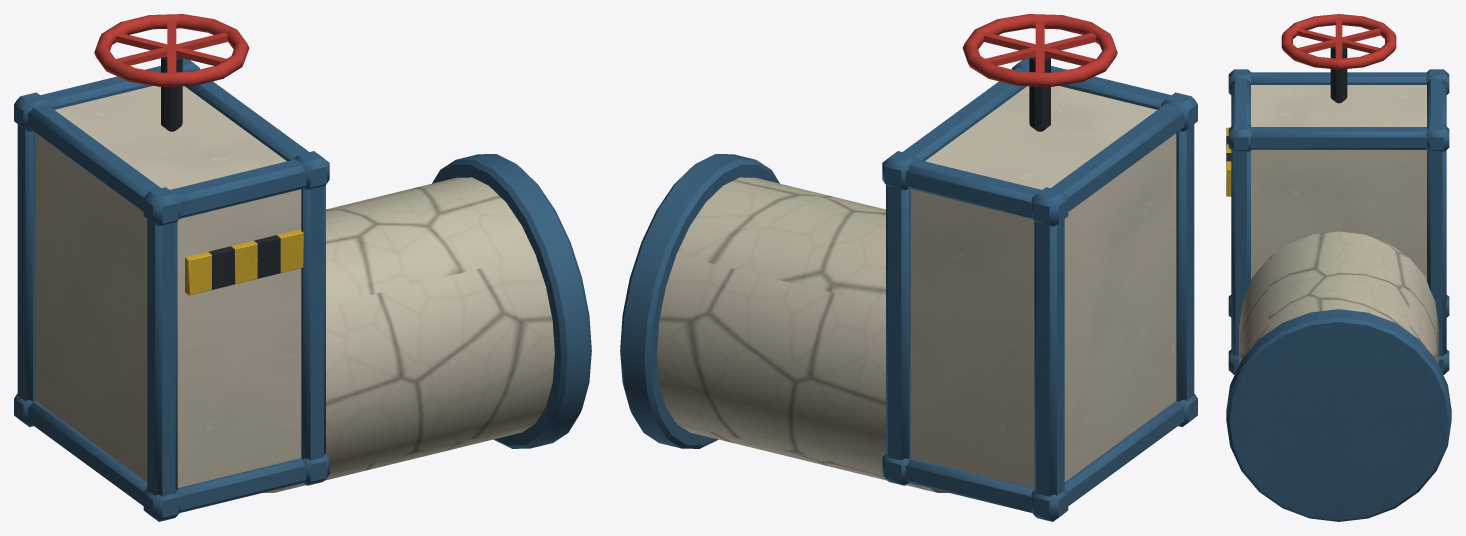
The model's file is pipe_valve.glb.
3 renders of one model, left to right at view 1: azimuth 30°, elevation 25°; view 2: azimuth 150°, elevation 25°; view 3: azimuth 270°, elevation 25°, orthographic. The views are drawn at different scales.
Visible parts, largest first — view 1: pipe_valve; view 2: pipe_valve; view 3: pipe_valve.
Part boxes in pixels (box(x1,y1,x2,y2)): pipe_valve: box(14, 14, 591, 521); pipe_valve: box(620, 14, 1197, 521); pipe_valve: box(1226, 14, 1451, 521).
Size of the model in its own units: 2.3 by 2.39 by 1.36.
Materials: 8 (8 with a texture image).
